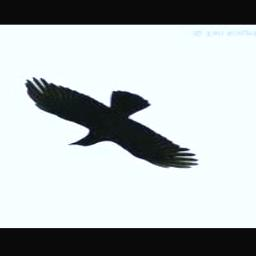Crow: (23, 77, 198, 169)
